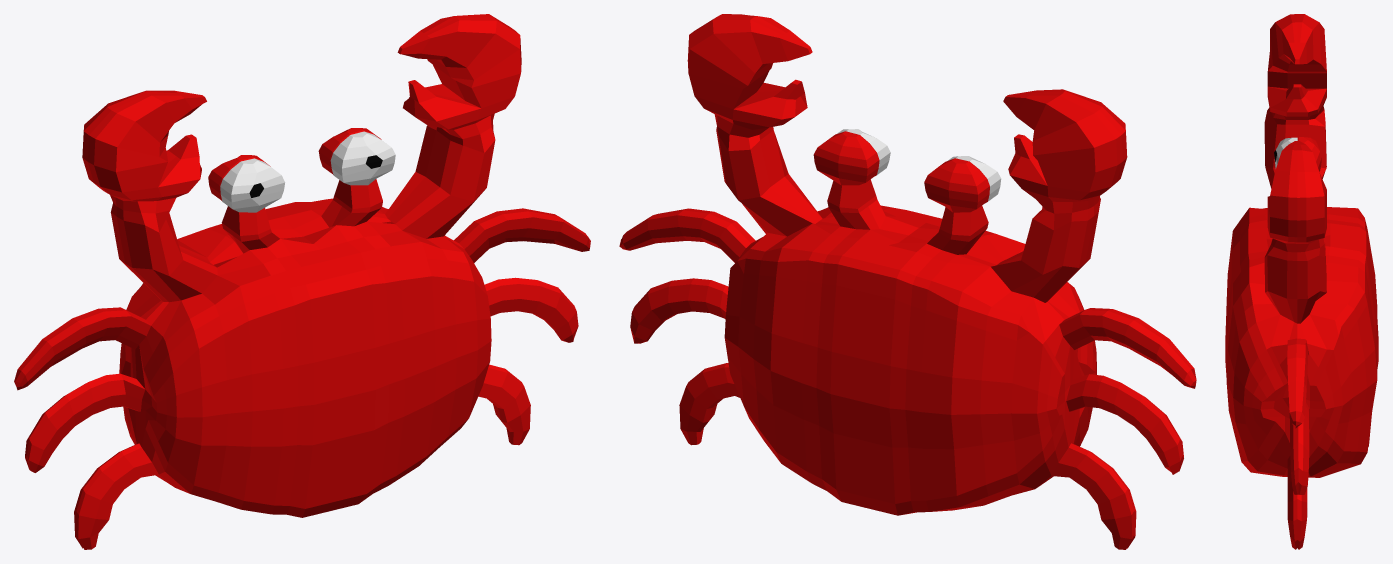
File: Cangrejo.fbx
The picture shows the model from 3 angles, left to right: view 1: azimuth 30°, elevation 25°; view 2: azimuth 150°, elevation 25°; view 3: azimuth 270°, elevation 25°; orthographic projection. The views are drawn at different scales.
Visible parts, largest first — view 1: Cangrejillo; view 2: Cangrejillo; view 3: Cangrejillo.
Boxes of the visible parts, left/top/right/bottom form: Cangrejillo: left=14, top=14, right=590, bottom=549; Cangrejillo: left=619, top=14, right=1196, bottom=549; Cangrejillo: left=1225, top=14, right=1378, bottom=549.
Size of the model in its own units: 586 by 429 by 159.
